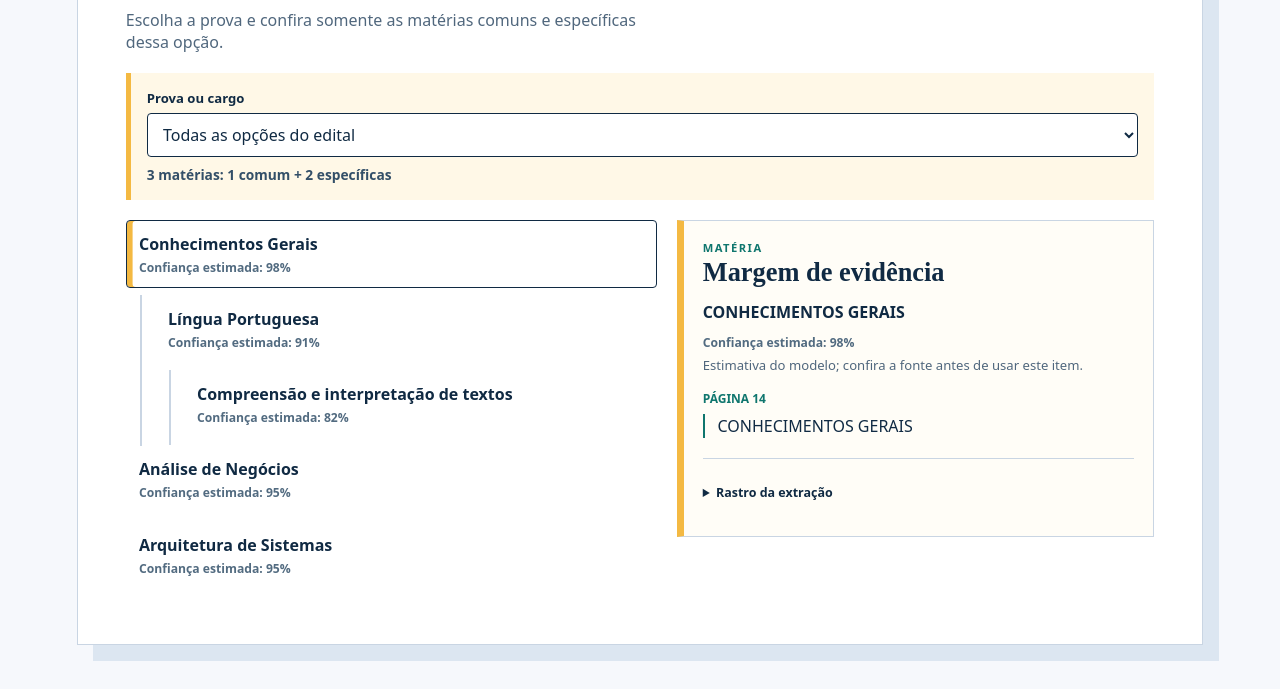
Test: consultable verticalization tree › opens literal evidence from a hierarchy item and labels confidence as an estimate
(page scrolled)
Click the button "Língua Portuguesa Confiança estimada: 91%" at (244, 319), box [155,295,656,363]
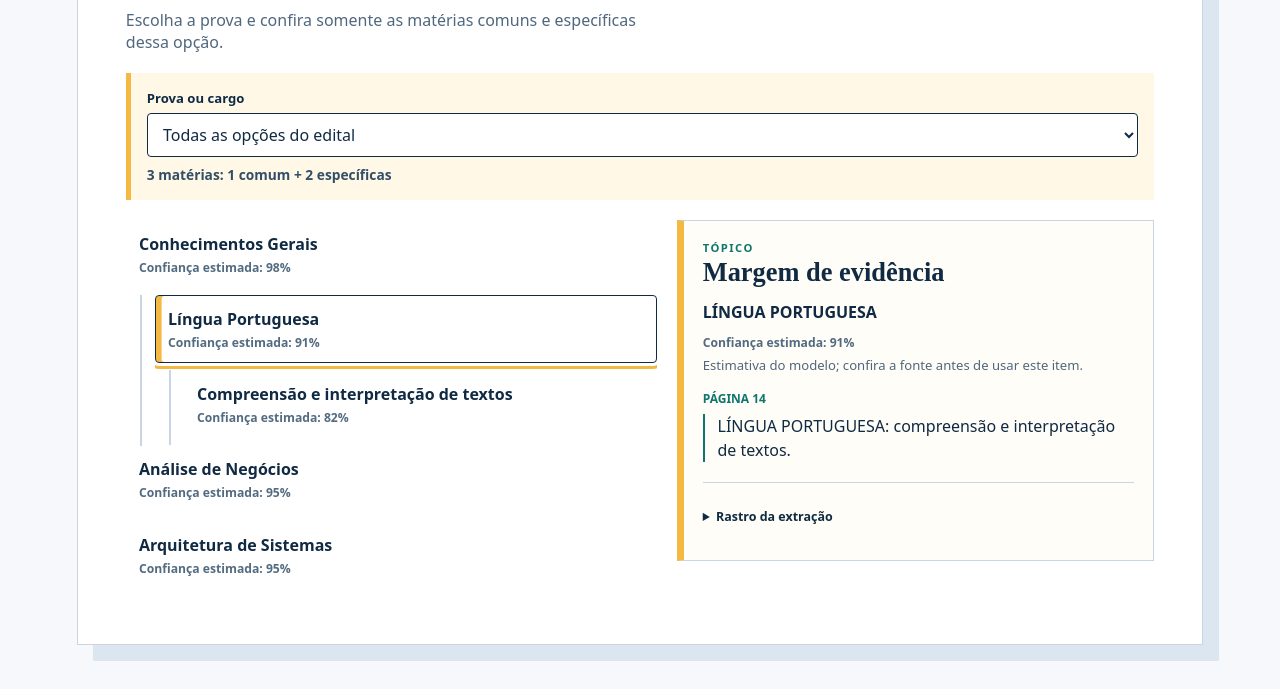
Expected: the text "Página 14" is shown, [703,390,766,407]
Result: the text "LÍNGUA PORTUGUESA: compreensão e interpretação de textos." is shown at [703,414,1134,462]
Result: the text "Confiança estimada: 91%" below "Margem de evidência" is shown at [703,334,854,351]
